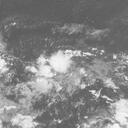cyclone: (49, 50, 71, 74)
